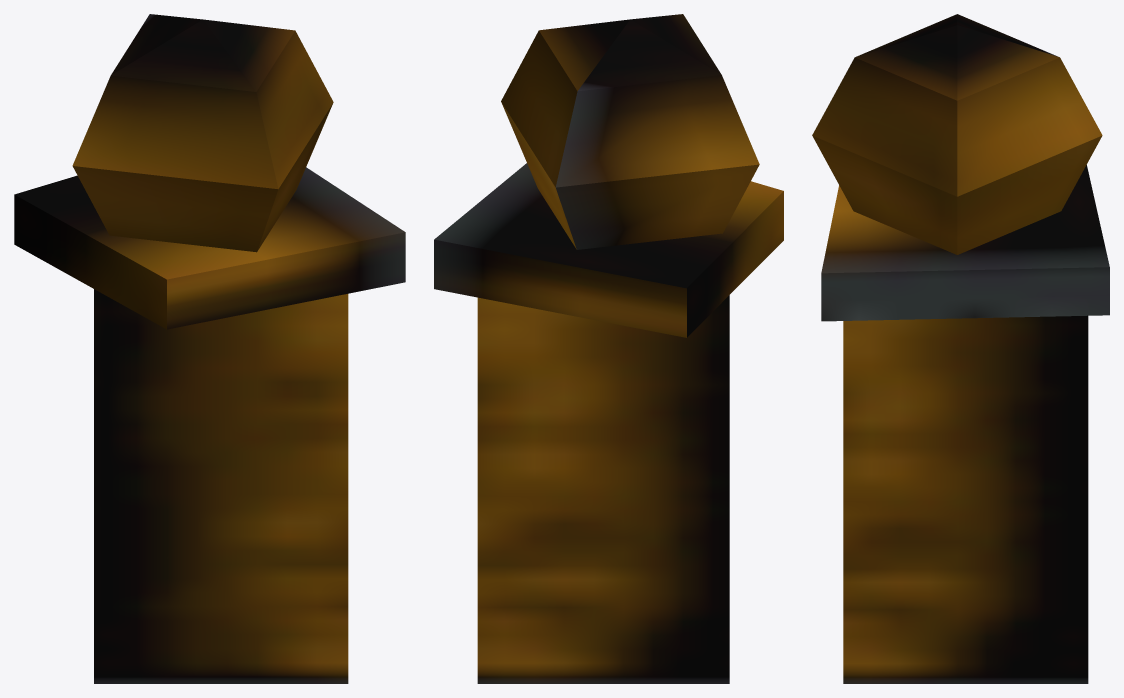
The model's file is ZiersäuleKlein_Eckig [Braun]_95.glb.
3 renders of one model, left to right at view 1: azimuth 30°, elevation 25°; view 2: azimuth 150°, elevation 25°; view 3: azimuth 270°, elevation 25°, orthographic. The views are drawn at different scales.
Visible parts, largest first — view 1: pCylinderShape25, pSphereShape46, pCubeShape206; view 2: pCylinderShape25, pSphereShape46, pCubeShape206; view 3: pCylinderShape25, pSphereShape46, pCubeShape206.
Boxes of the visible parts, box(x1,y1,x2,y2) form: pCylinderShape25: box(94, 289, 348, 683); pSphereShape46: box(72, 14, 333, 252); pCubeShape206: box(14, 167, 405, 329); pCylinderShape25: box(477, 295, 729, 683); pSphereShape46: box(501, 14, 759, 249); pCubeShape206: box(434, 163, 783, 337); pCylinderShape25: box(843, 315, 1088, 683); pSphereShape46: box(812, 14, 1102, 254); pCubeShape206: box(821, 165, 1109, 321).
Bounding box in the file's own units: 0.0933 × 0.2181 × 0.0952.
3 materials, 3 textured.
